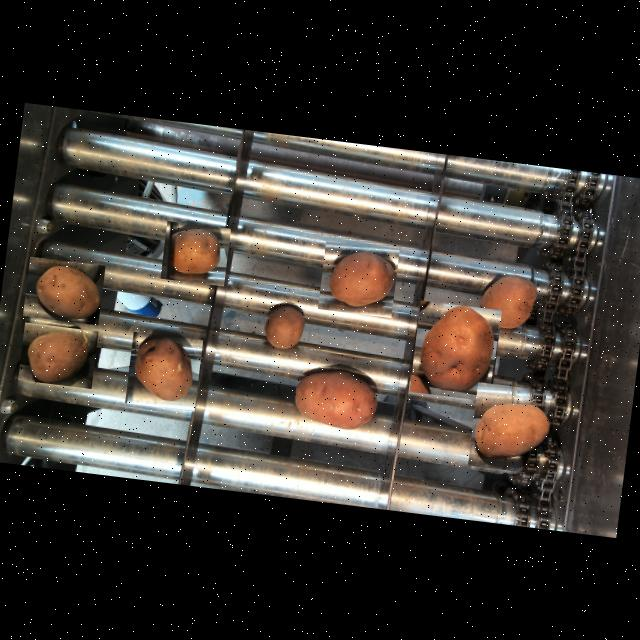Potato: (409, 300, 502, 401), (467, 382, 557, 474), (289, 359, 388, 436), (317, 241, 399, 318), (125, 332, 202, 412), (22, 256, 105, 325), (17, 322, 98, 389), (472, 263, 542, 334), (160, 221, 230, 286), (254, 294, 314, 357)
